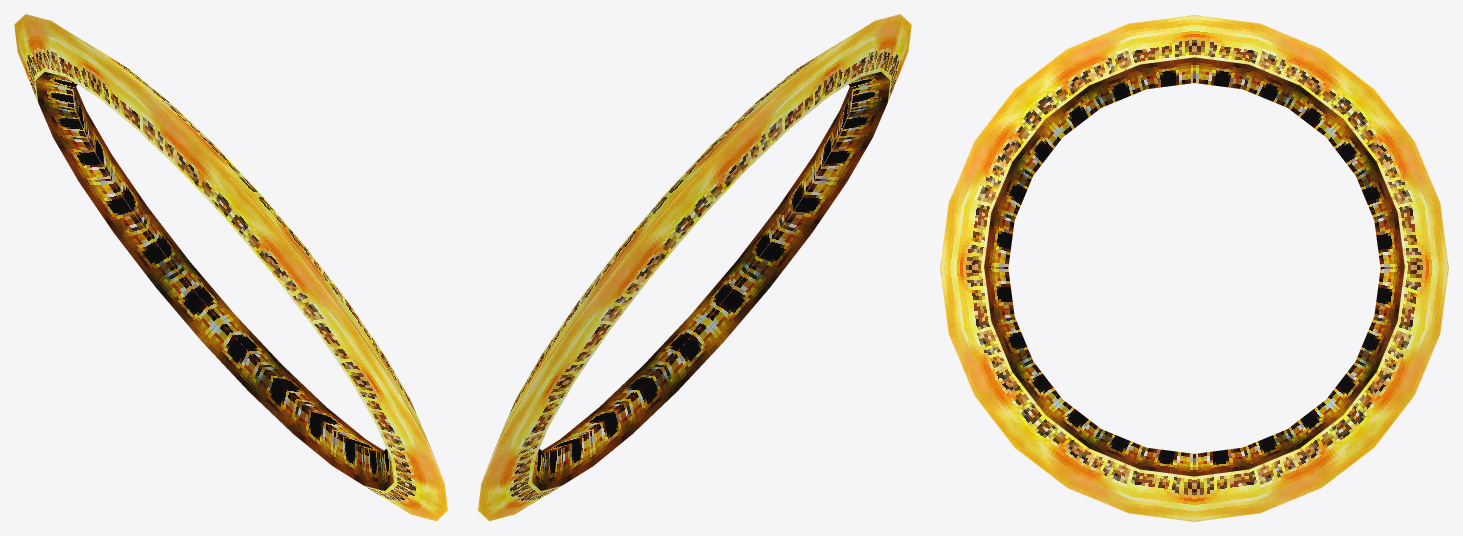
File: ps2_save-icons_grandiaxtreme.glb
3 renders of one model, left to right at view 1: azimuth 30°, elevation 25°; view 2: azimuth 150°, elevation 25°; view 3: azimuth 270°, elevation 25°, orthographic. The views are drawn at different scales.
Visible parts, largest first — view 1: icon0.ico; view 2: icon0.ico; view 3: icon0.ico.
Boxes of the visible parts, x1,y1,x2,y2 form: icon0.ico: (14,14,447,521); icon0.ico: (478,14,911,521); icon0.ico: (940,15,1448,521).
Bounding box in the file's own units: 1.87 × 3.23 × 3.72.
1 material, 1 textured.
